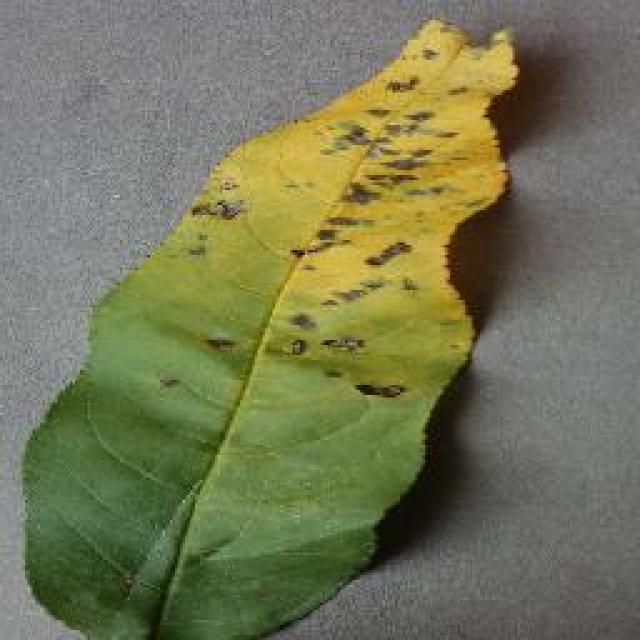Bacterial_spot: (271, 61, 480, 319), (264, 325, 437, 408), (171, 156, 265, 258), (200, 324, 251, 355), (158, 366, 190, 398)
